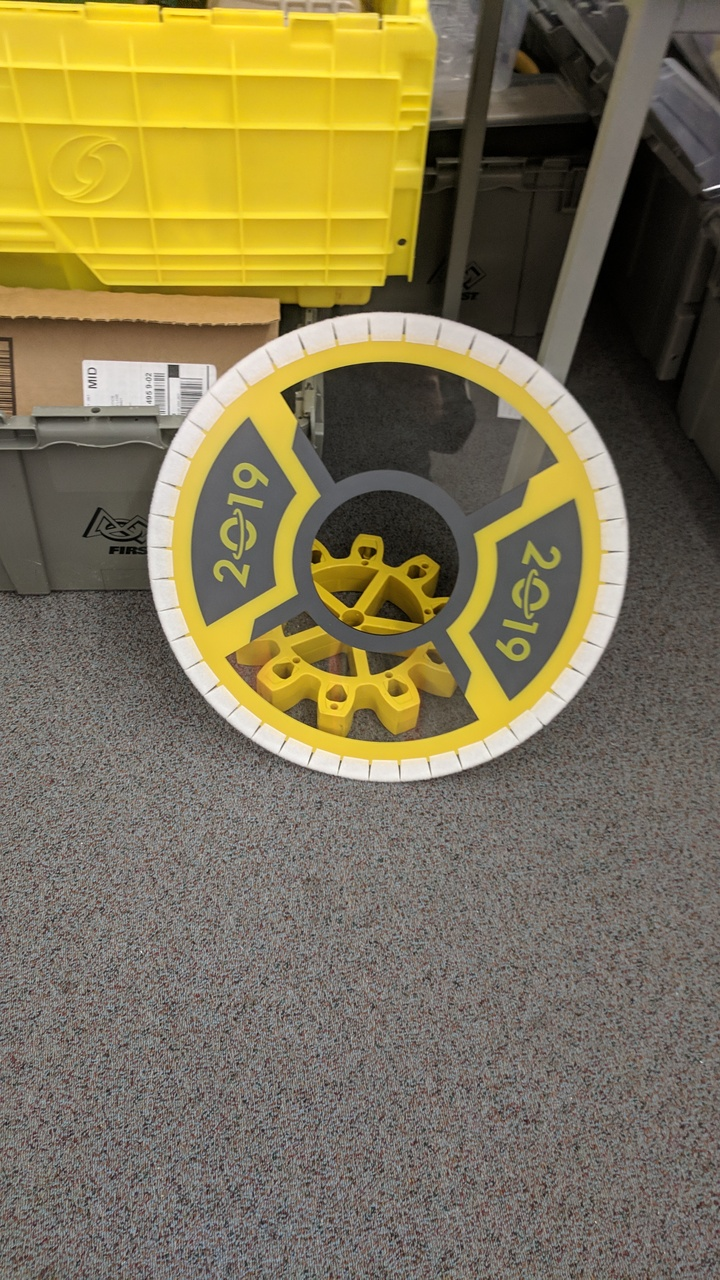hatch_panel: (144, 308, 640, 791)
